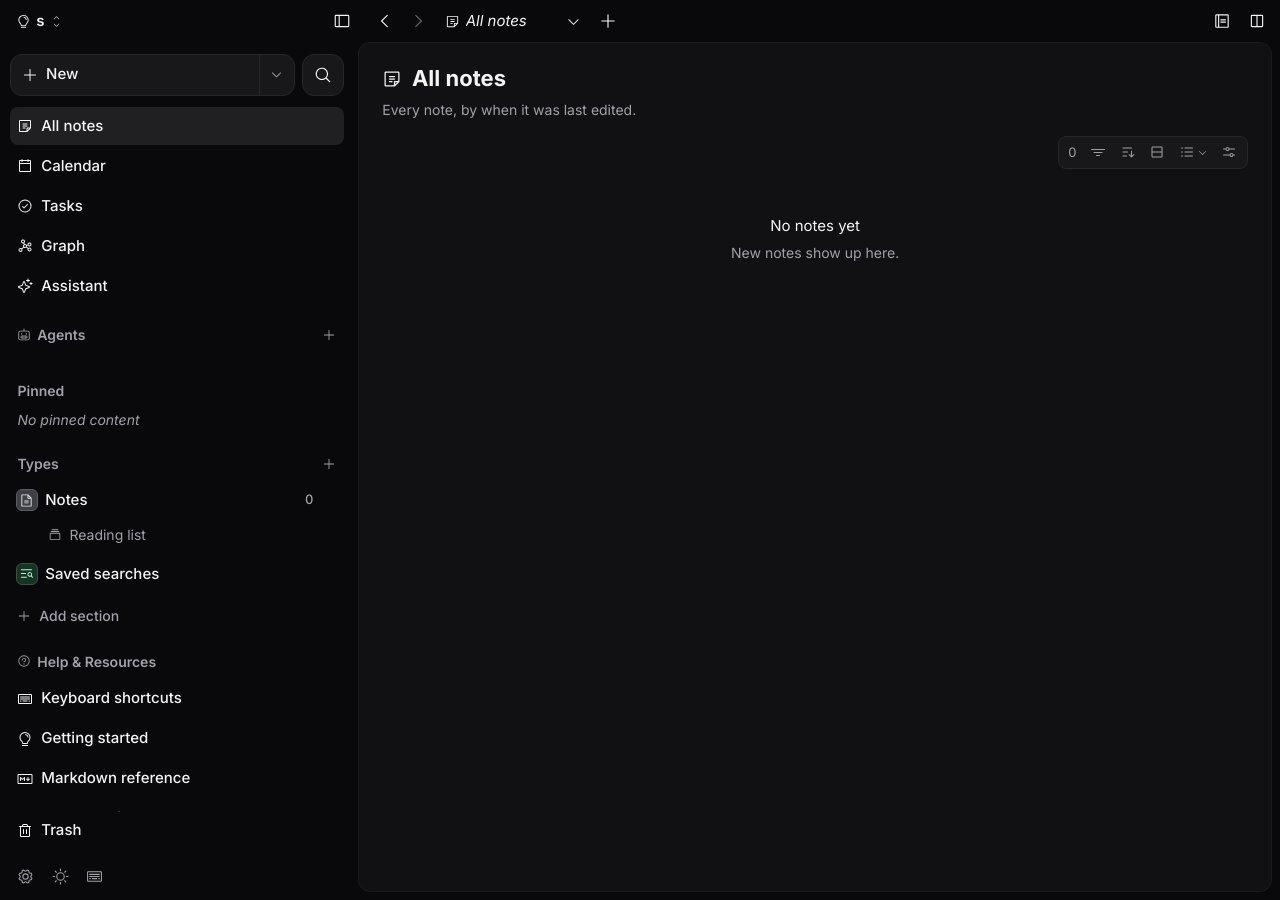
Test case: new targets › test collection, query, queries and allNotes targets open, go back and show tab labels
The width and height of the screenshot is (1280, 900).
Later steps or results of the test are not shown.
Expected: the 1st text "notes" is shown, [466,11,527,30]
Expected: the 1st text "All notes" is shown, [466,10,527,32]
Click the button named "back" at (385, 21), box [369,6,400,36]
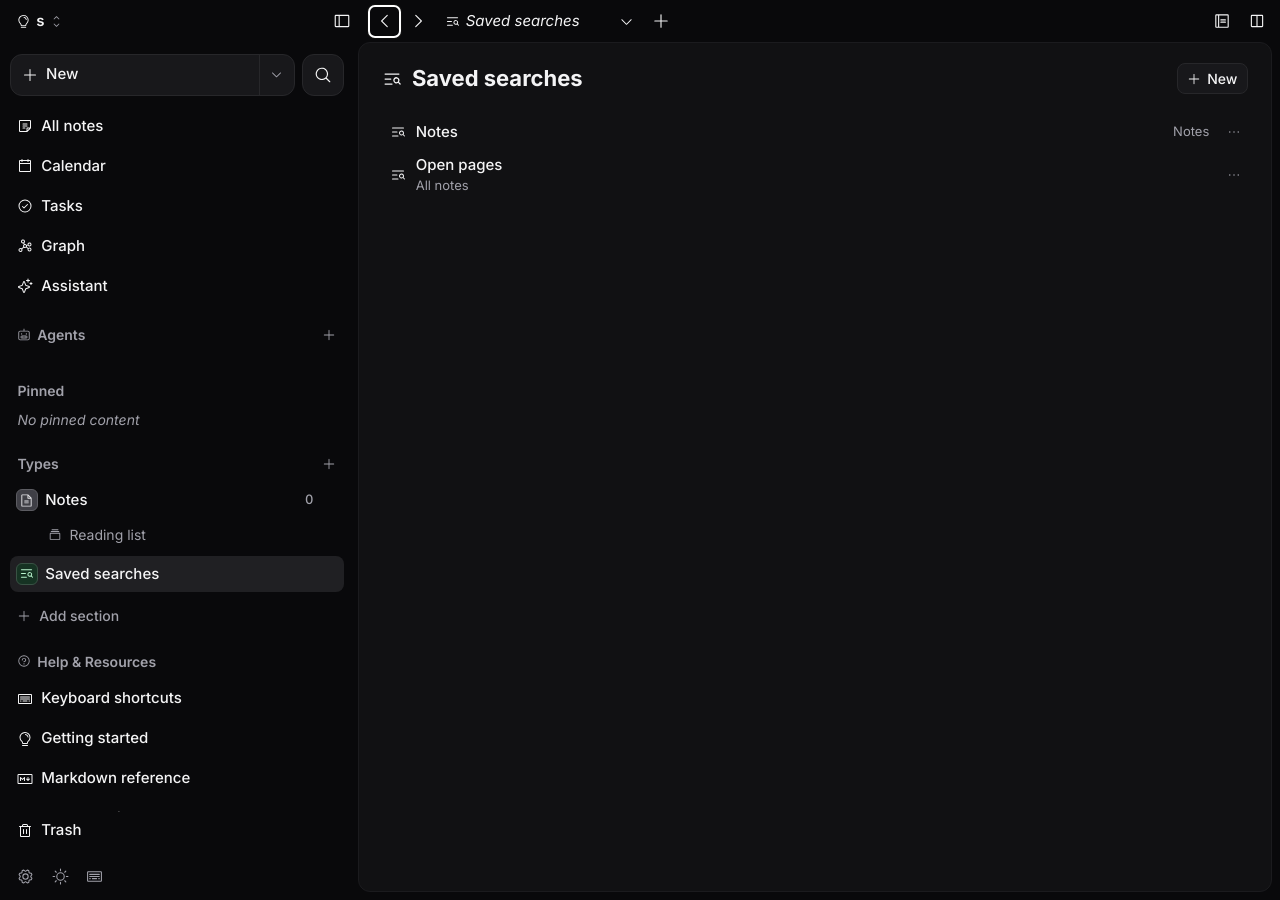
Expected: the 1st text "Saved searches" is shown, [466,10,580,32]
